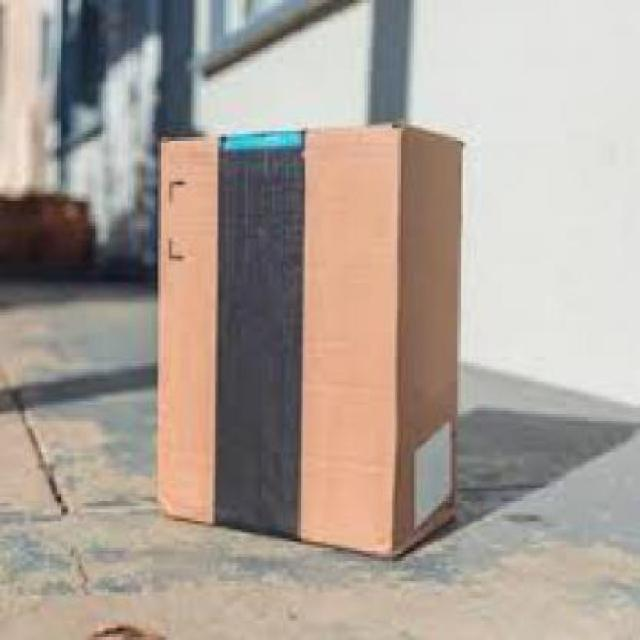cardboxes: (148, 114, 472, 563)
